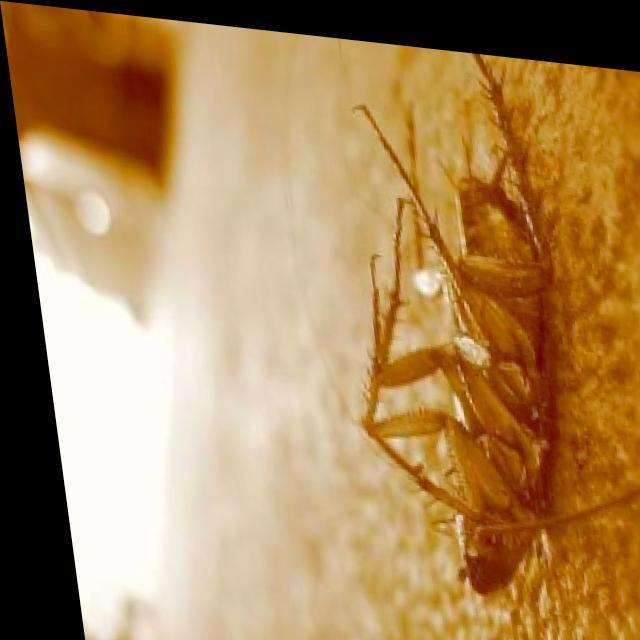cockroach: (350, 102, 570, 618)
